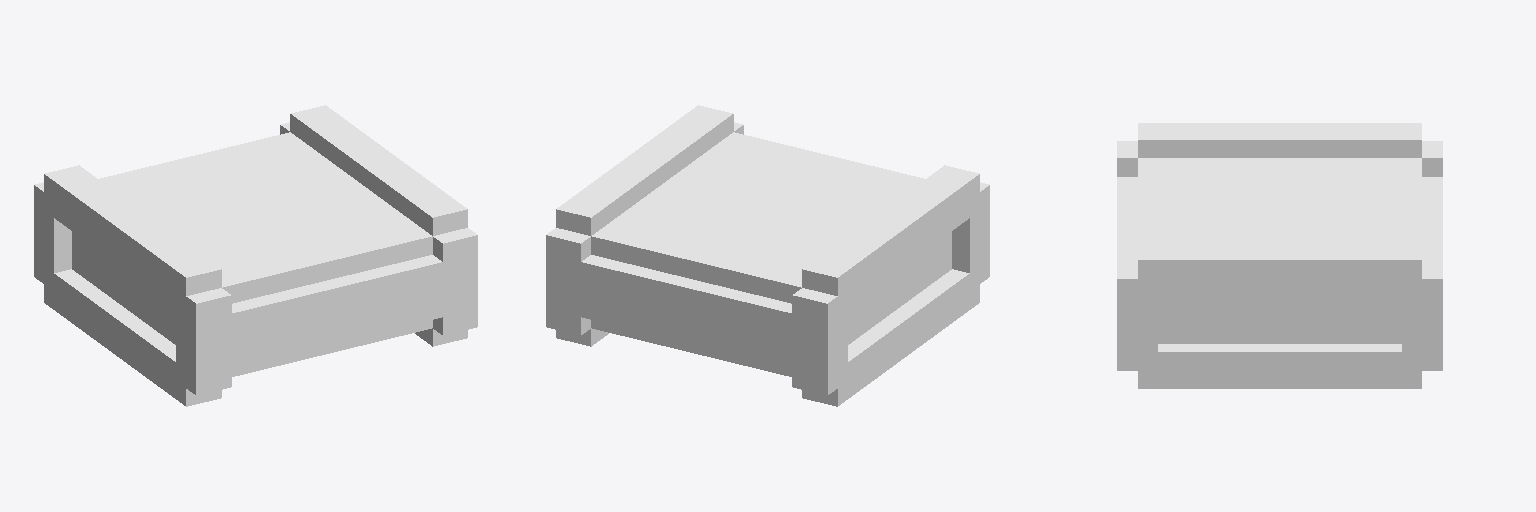
The model's file is conveyor_3.obj.
3 renders of one model, left to right at view 1: azimuth 30°, elevation 25°; view 2: azimuth 150°, elevation 25°; view 3: azimuth 270°, elevation 25°, orthographic.
Parts seen in each view (by area): view 1: object 1; view 2: object 1; view 3: object 1.
Part boxes in pixels (x1,y1,x2,y2): object 1: (34, 105, 477, 406); object 1: (546, 105, 989, 406); object 1: (1117, 123, 1442, 388).
Size of the model in its own units: 1.6 by 0.7 by 1.6.